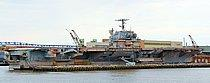MIL_Ship: (1, 18, 203, 67)
